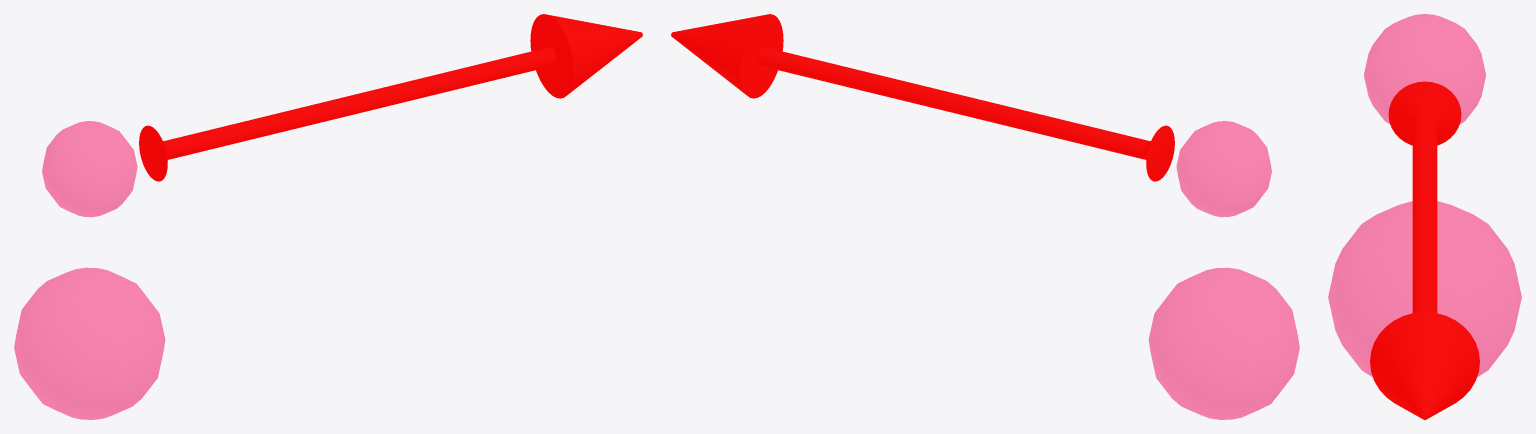
Rendered from arrow_meshes.glb.
3 views of the same model, side by side, from view 1: azimuth 30°, elevation 25°; view 2: azimuth 150°, elevation 25°; view 3: azimuth 270°, elevation 25° (orthographic). The views are drawn at different scales.
Parts seen in each view (by area): view 1: ArrowScale, ArrowTranslate; view 2: ArrowScale, ArrowTranslate; view 3: ArrowScale, ArrowTranslate.
Boxes of the visible parts, box(x1,y1,x2,y2) form: ArrowScale: box(14, 121, 165, 419); ArrowTranslate: box(139, 14, 642, 181); ArrowScale: box(1148, 121, 1299, 419); ArrowTranslate: box(671, 14, 1174, 181); ArrowScale: box(1328, 14, 1521, 377); ArrowTranslate: box(1370, 81, 1479, 419).
Size of the model in its own units: 1.92 by 0.8517 by 0.4096.
